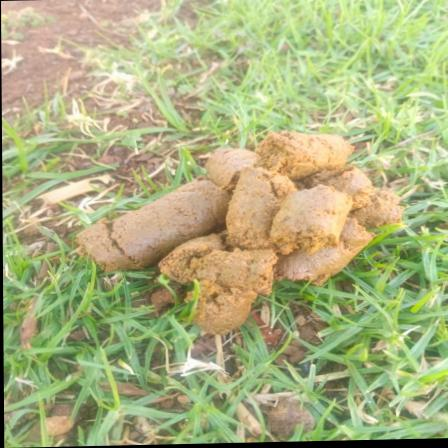dog-poop: (72, 120, 409, 337)
